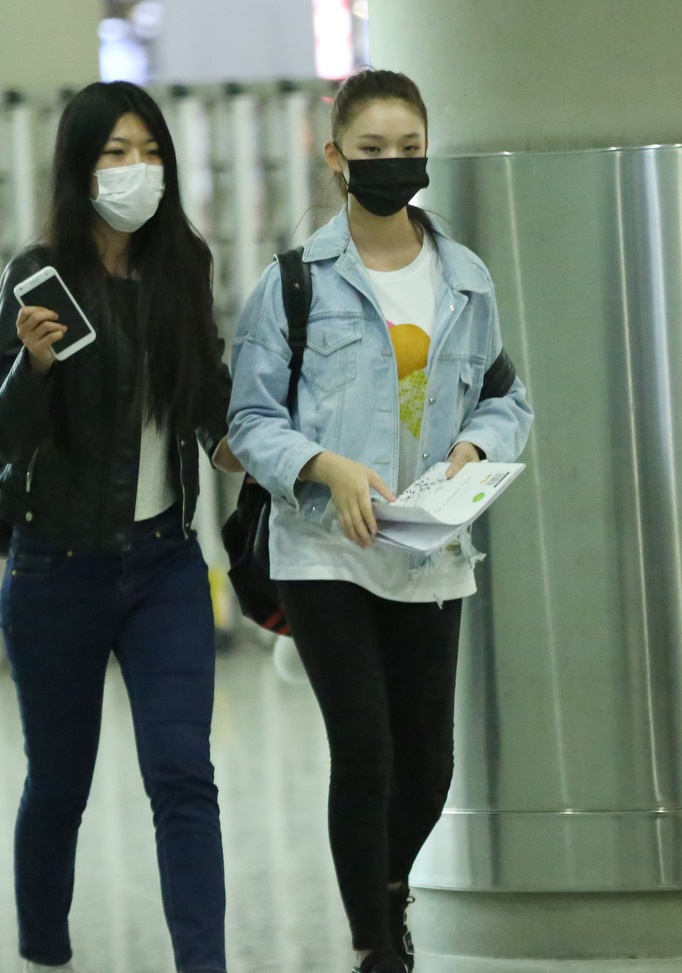face_mask: (344, 100, 424, 219), (91, 106, 161, 229)
